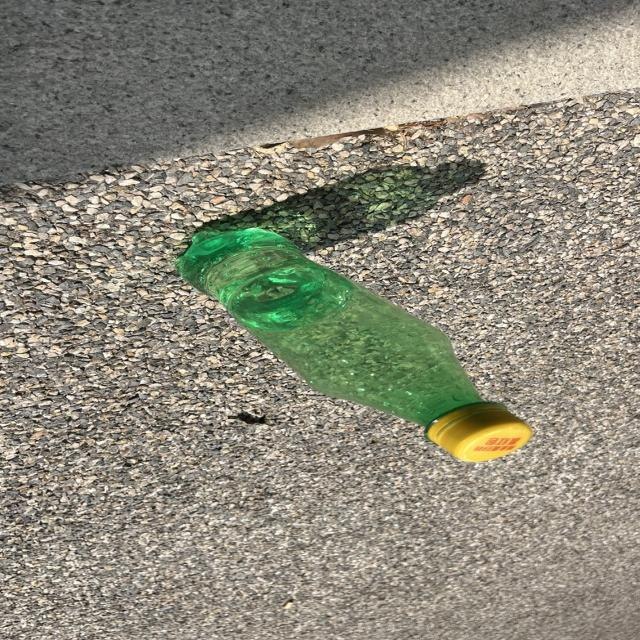medium: (178, 228, 530, 461)
